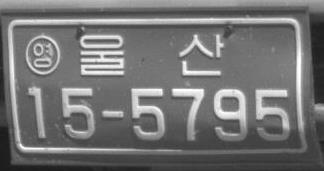-: (100, 108, 125, 121)
1: (24, 86, 54, 138)
5: (129, 86, 166, 142), (58, 86, 97, 139), (254, 88, 290, 142)
7: (170, 87, 206, 141)
9: (212, 87, 248, 141)
영: (24, 33, 60, 75)
울산_D: (79, 32, 224, 76)
